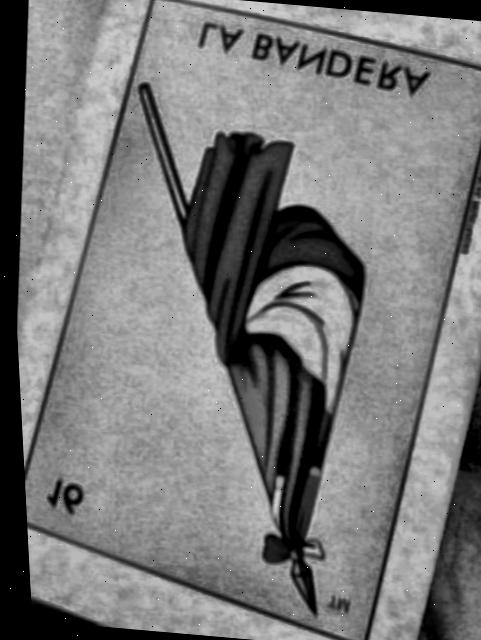La Bandera: (19, 0, 481, 640)
